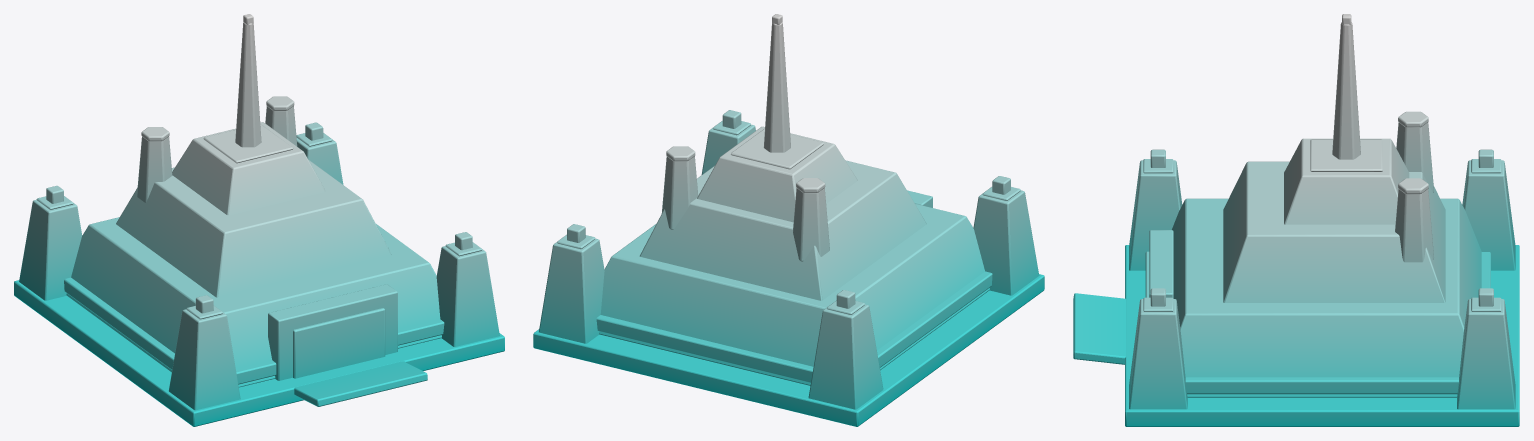
Rendered from combine_building_hub.glb.
3 views of the same model, side by side, from view 1: azimuth 30°, elevation 25°; view 2: azimuth 150°, elevation 25°; view 3: azimuth 270°, elevation 25° (orthographic). The views are drawn at different scales.
Visible parts, largest first — view 1: body; view 2: body; view 3: body.
Boxes of the visible parts, x1=… form: body: x1=14, y1=14, x2=504, y2=426; body: x1=533, y1=14, x2=1044, y2=426; body: x1=1073, y1=14, x2=1519, y2=426.
Size of the model in its own units: 13 by 11.95 by 14.7.
